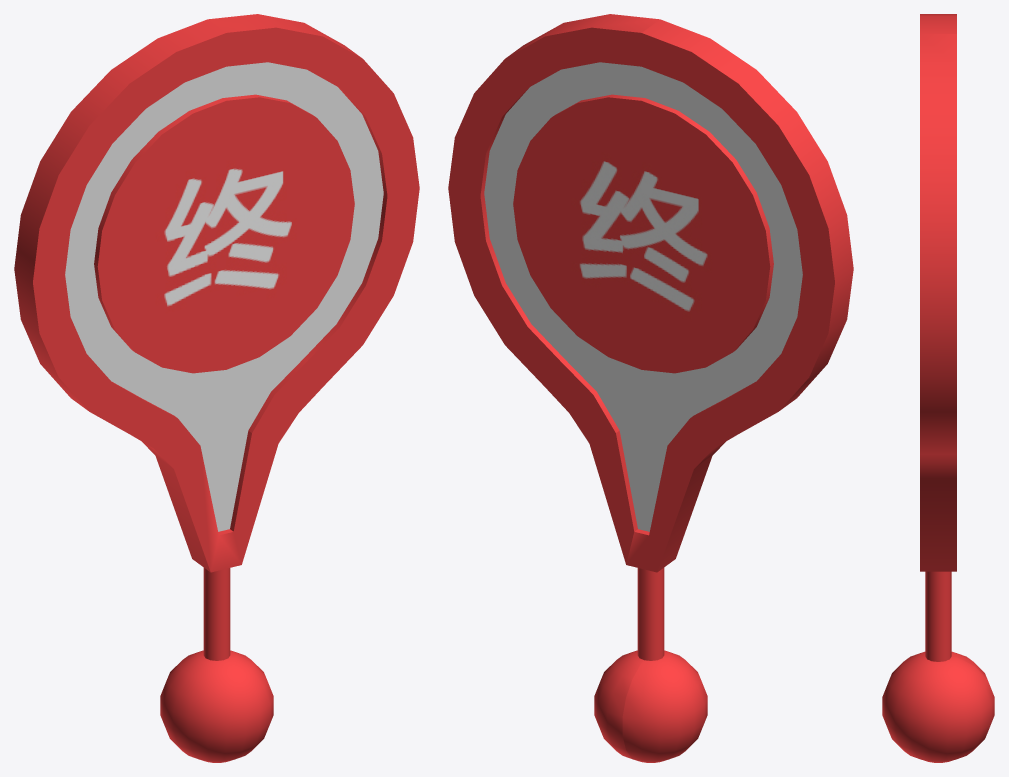
The model's file is end.48cab06.glb.
3 renders of one model, left to right at view 1: azimuth 30°, elevation 25°; view 2: azimuth 150°, elevation 25°; view 3: azimuth 270°, elevation 25°, orthographic.
Parts seen in each view (by area): view 1: 终点; view 2: 终点; view 3: 终点.
Part boxes in pixels (x1,y1,x2,y2): 终点: [14, 14, 419, 762]; 终点: [448, 14, 853, 762]; 终点: [882, 14, 994, 762].
Bounding box in the file's own units: 1.2 × 2.17 × 0.3053.
3 materials, 3 textured.
